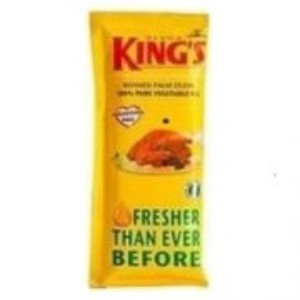vegetable oil_brain food: (84, 53, 206, 247)
